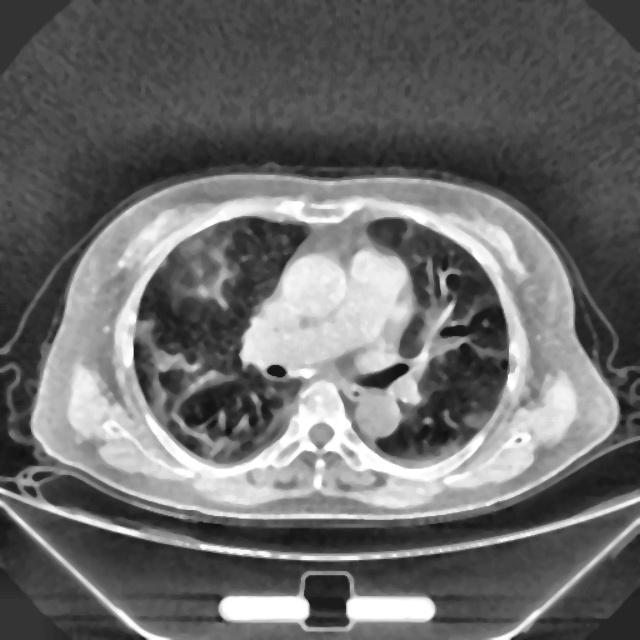covid: (27, 166, 621, 527)
